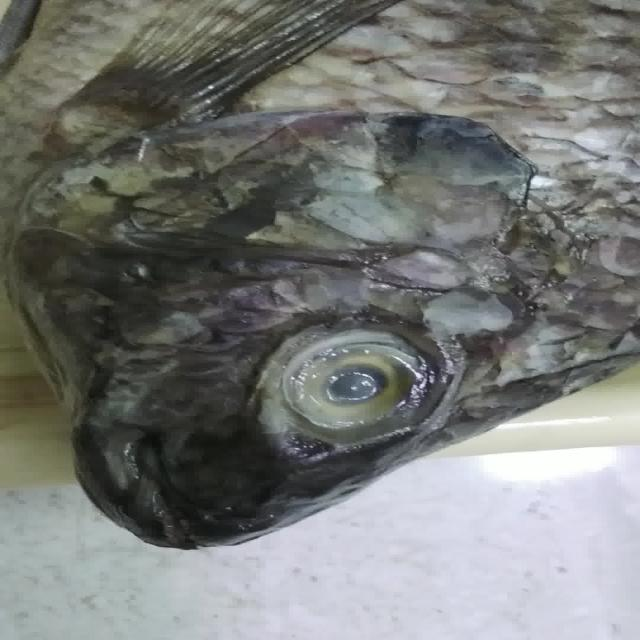Non-Fresh: (239, 313, 460, 459)
